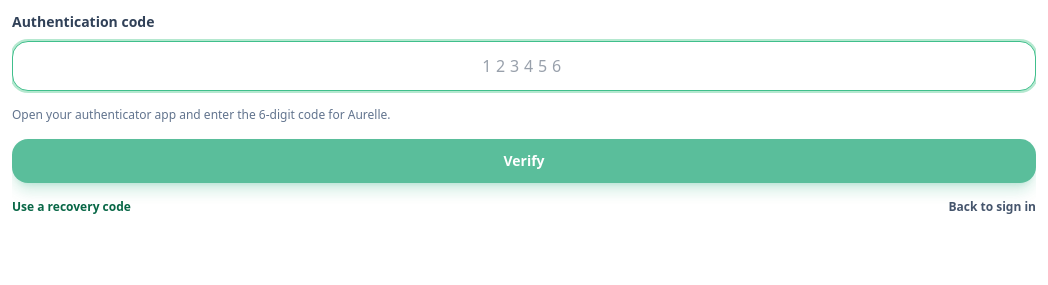
Test: TwoFactorLoginStep › a wrong code shows the error and how many tries are left, and clears the box
The width and height of the screenshot is (1048, 285).
In the field labelled "Authentication code": (524, 66) x1=12 y1=41 x2=1036 y2=91, type "000000"
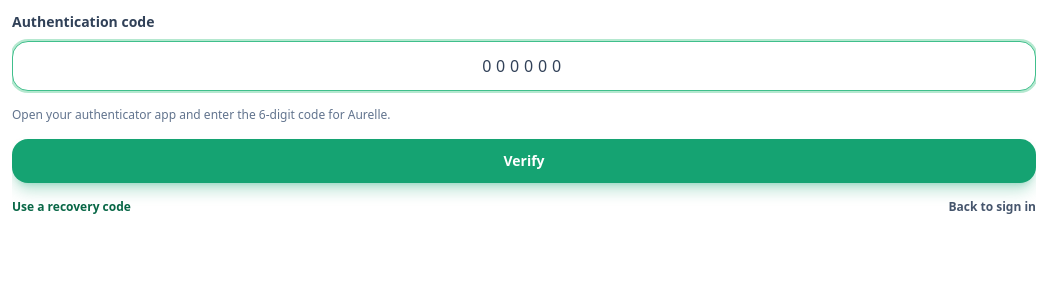
Click the button "Verify": (524, 161) x1=12 y1=139 x2=1036 y2=183
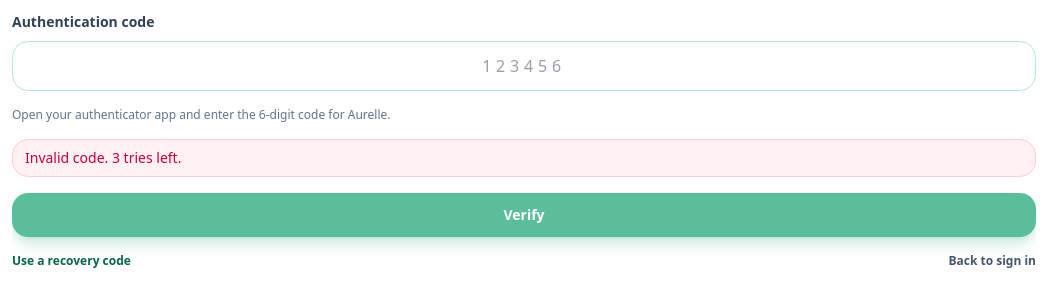
expect the message reads "Invalid code. 3 tries left.": met, box x1=25 y1=148 x2=181 y2=167
expect the field labelled "Authentication code" is empty: met, box x1=12 y1=41 x2=1036 y2=91
